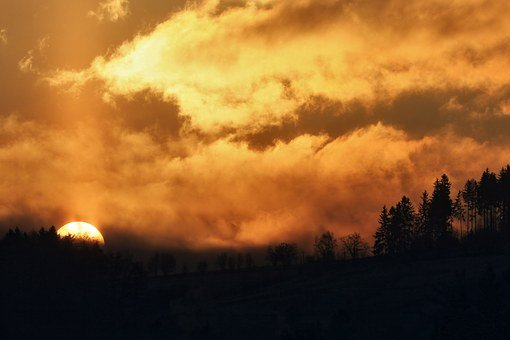sky: (3, 4, 510, 227)
tree: (368, 182, 510, 294)
